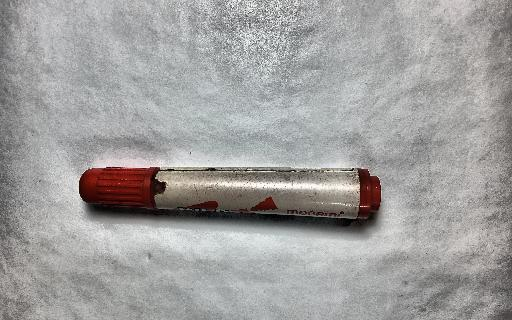marcador negro: (79, 167, 381, 218)
